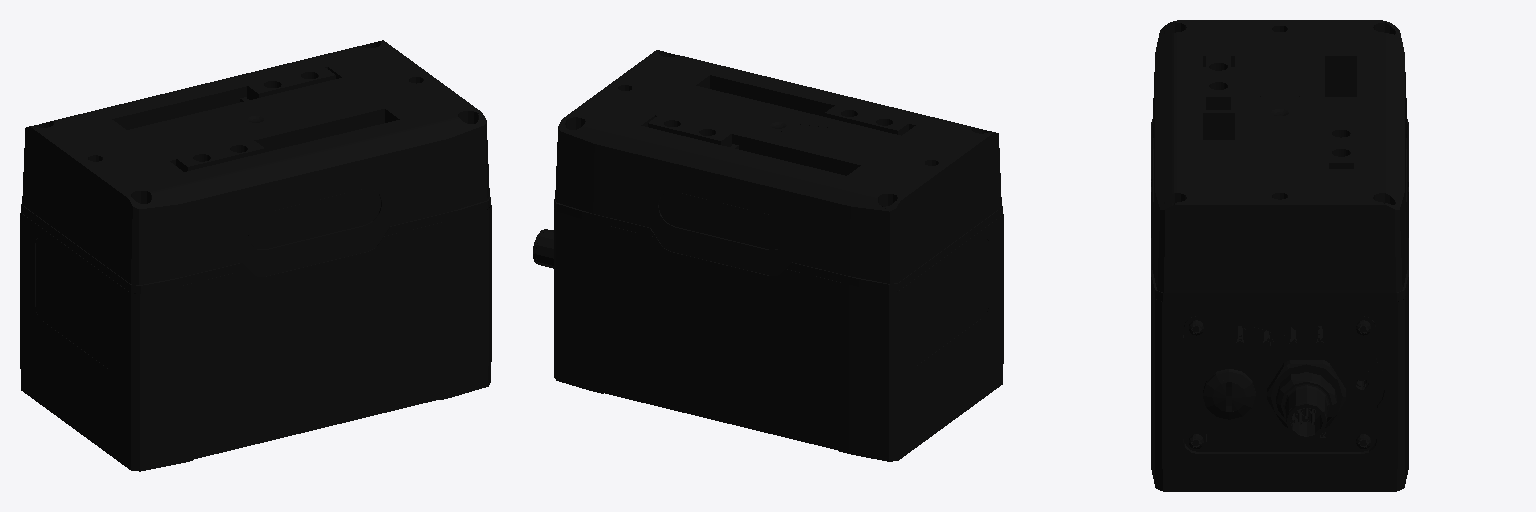
URDF robot description (Schunk_EGK40_MB_M_B):
<robot name="Schunk_EGK40_MB_M_B">
<!--    Note that the baselink is the start of the gripper without any mounting plate to a specific robot -->
    <link name="base_link">
        <inertial>
            <origin rpy="0 0 0" xyz="0 0 0"/>
            <mass value="1.02"/>
        </inertial>
        <visual>
            <origin rpy="0 0 0" xyz="0 0 0"/>
            <geometry>
                <mesh filename="../meshes/EGK40-MB-M-B.obj"/>
            </geometry>
            <material name="">
                <color rgba="0.1 0.1 0.1 1"/>
            </material>
        </visual>
        <collision>
            <origin rpy="0 0 0" xyz="0 0 0.0418"/>
            <geometry>
                <box size="0.117 0.068 0.0835"/>
            </geometry>
        </collision>
        <collision>
            <origin rpy="0 0 0" xyz="0.06 0 0.03"/>
            <geometry>
                <box size="0.04 0.04 0.04"/>
            </geometry>
        </collision>
    </link>

    <link name="right_finger_mount"/>
    <joint name="right_finger_mount_joint" type="prismatic">
        <parent link="base_link"/>
        <child link="right_finger_mount"/>
        <origin xyz="0.0275 0.01711 0.0835" rpy="0 0 0"/>
        <axis xyz="1 0 0"/>
        <limit lower="-0.05" upper="0" effort="10" velocity="0.1"/>
    </joint>

    <link name="left_finger_mount"/>
    <joint name="left_finger_mount_joint" type="prismatic">
        <parent link="base_link"/>
        <child link="left_finger_mount"/>
        <origin xyz="-0.0275 -0.01711 0.0835" rpy="0 0 0"/>
        <axis xyz="1 0 0"/>
        <limit lower="-0" upper="0.05" effort="10" velocity="0.1"/>
    </joint>
</robot>

--- Render facts (derived) ---
3 views of the same robot in one strip: view 1: azimuth 30°, elevation 25°; view 2: azimuth 150°, elevation 25°; view 3: azimuth 270°, elevation 25° (orthographic).
Model Schunk_EGK40_MB_M_B with 3 links and 2 joints (2 prismatic), rooted at base_link, posed all joints at 0.
Visible links, largest first — view 1: base_link; view 2: base_link; view 3: base_link.
Boxes of the visible links, bbox=[...] form: base_link: bbox=[20, 40, 491, 471]; base_link: bbox=[533, 50, 1003, 461]; base_link: bbox=[1151, 20, 1408, 491].
Size in the robot's own frame: 0.1348 by 0.068 by 0.0835 metres.
1 mesh visuals loaded from 1 distinct referenced files (1 OBJ).